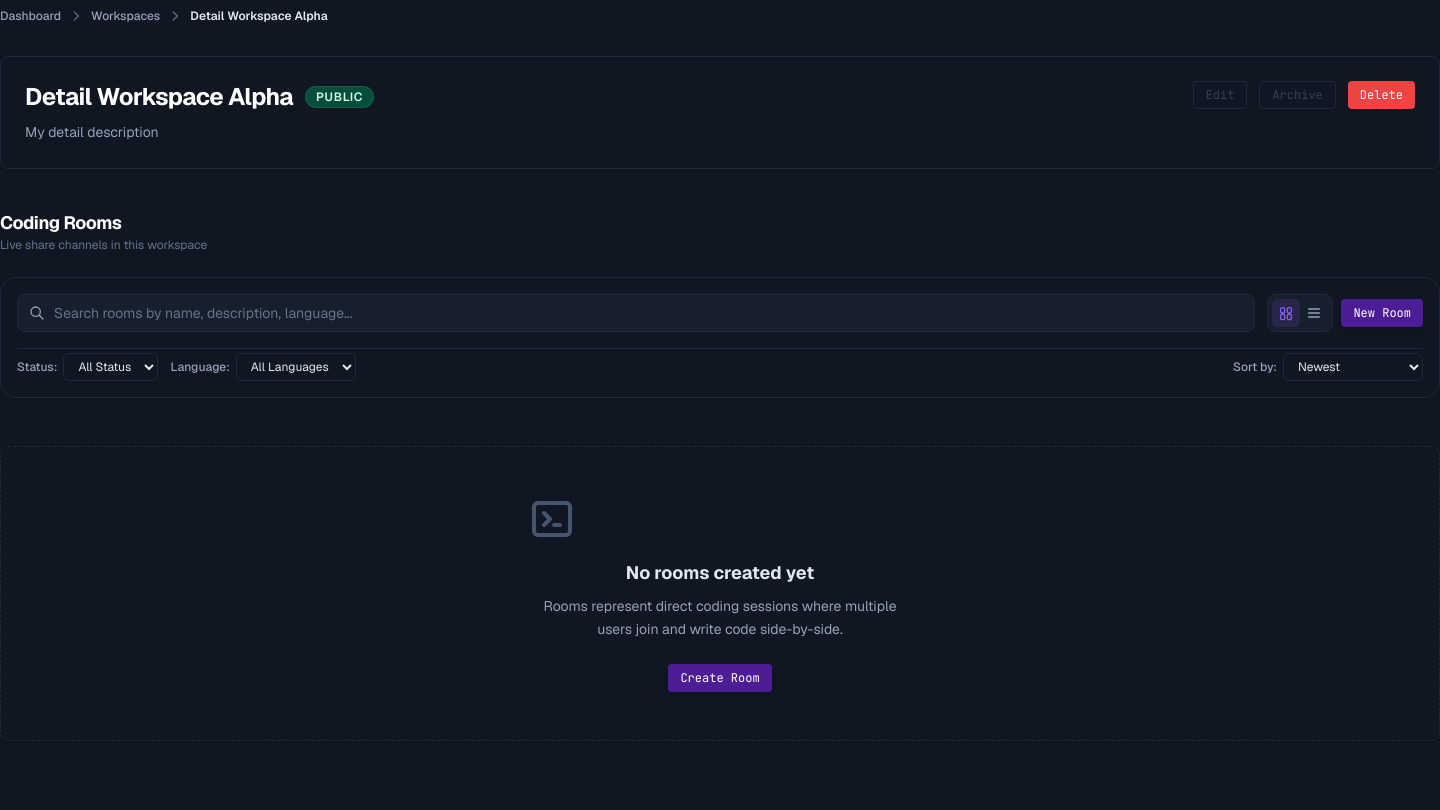
it: Workspace Management UI flow tests › should enforce owner permission checks and edit/delete inputs validation
Expected: the button "Edit" is shown, [1193,81,1247,109]
Expected: the button "Archive" is shown, [1259,81,1336,109]
# Show delete safety input confirmation
Step 1. Click the button "Delete" → (1381, 95), box [1348,81,1415,109]
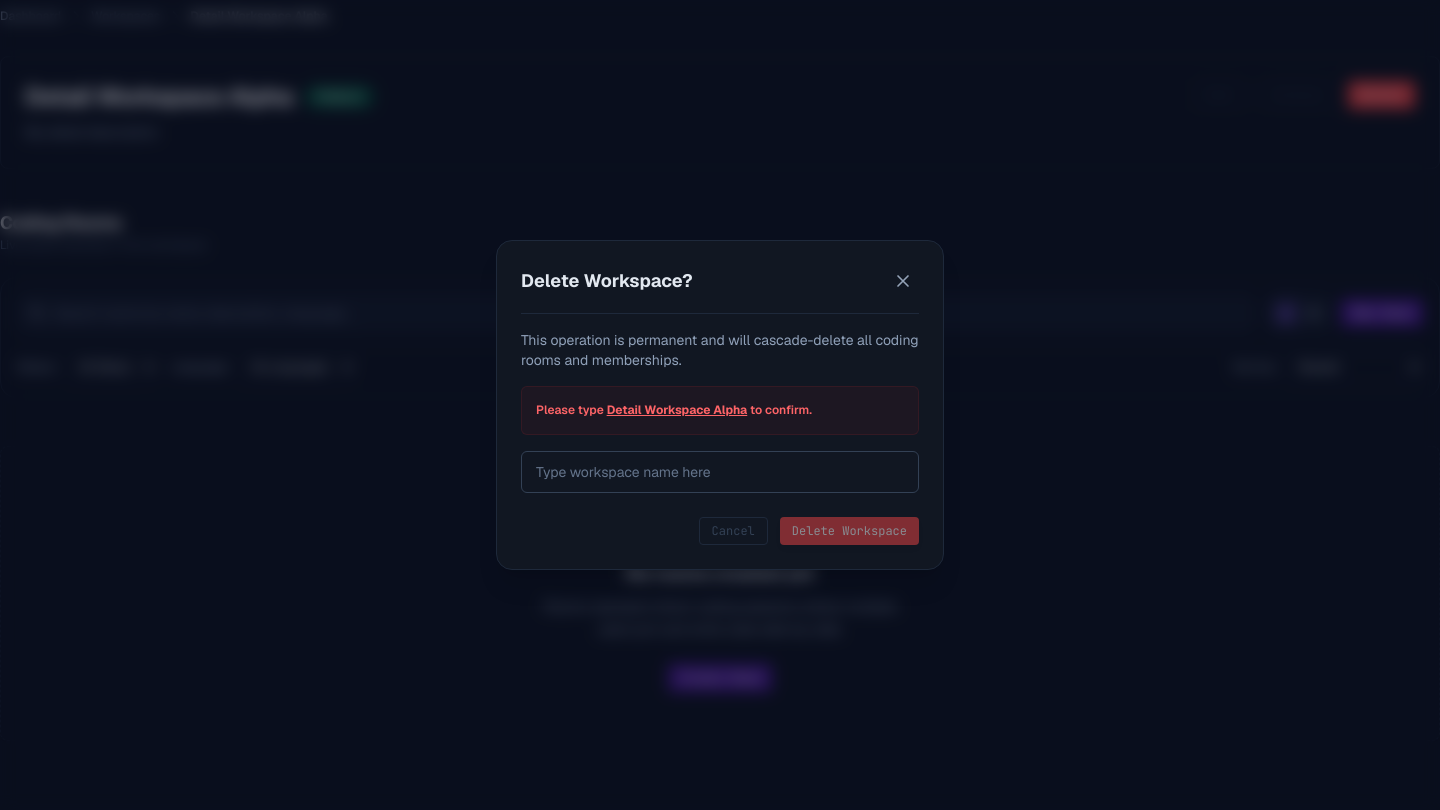
Expected: the heading "Delete Workspace?" is shown, [521,267,693,295]
Expected: the button "Delete Workspace" is disabled, [780,517,919,545]
# Fill wrong name
Step 2. Type "Wrong Workspace Name" into the field with placeholder "Type workspace name here" → (720, 472), box [521,451,919,493]
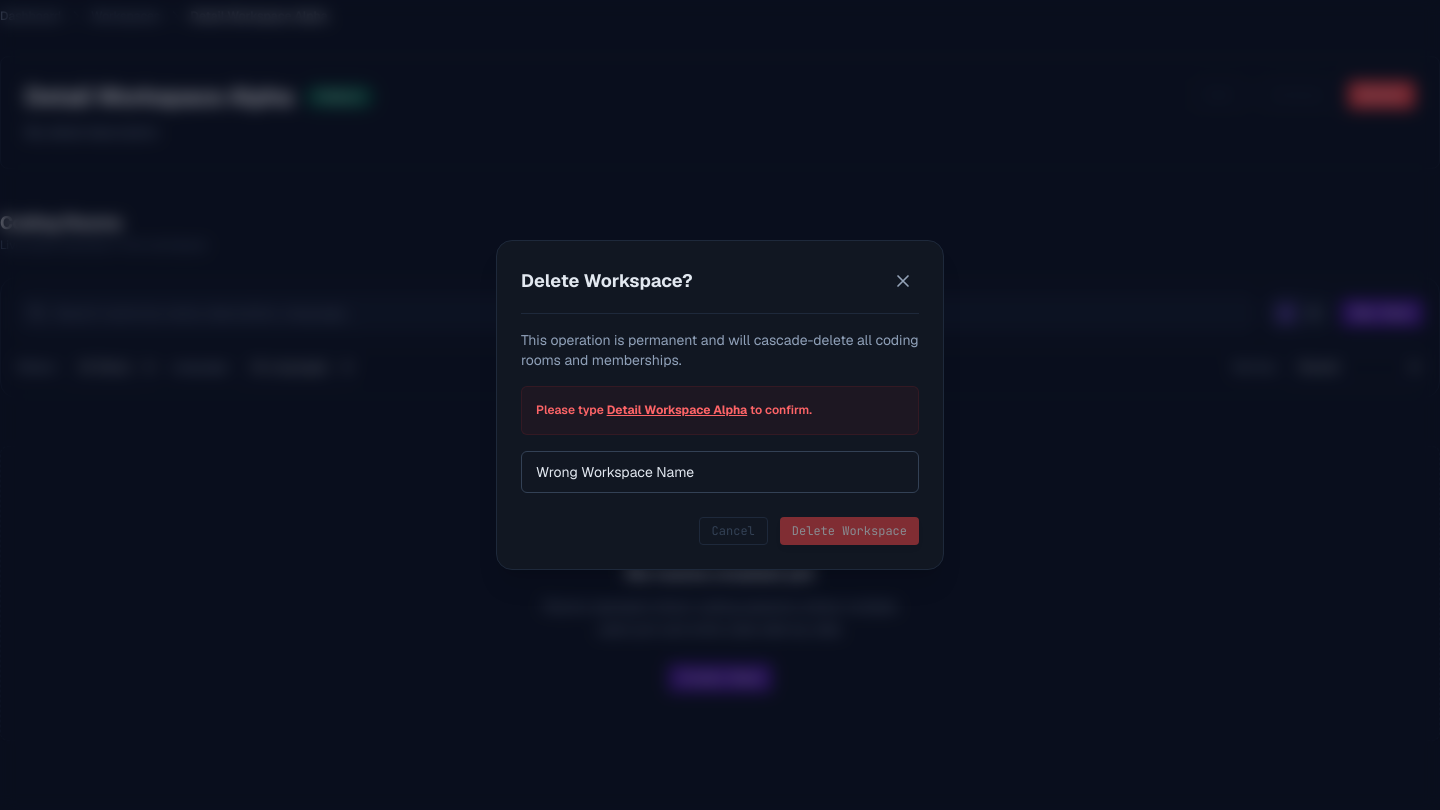
Expected: the button "Delete Workspace" is disabled, [780,517,919,545]
# Fill correct name to enable delete
Step 3. Replace the text in the field with placeholder "Type workspace name here" with "Detail Workspace Alpha" → (720, 472), box [521,451,919,493]
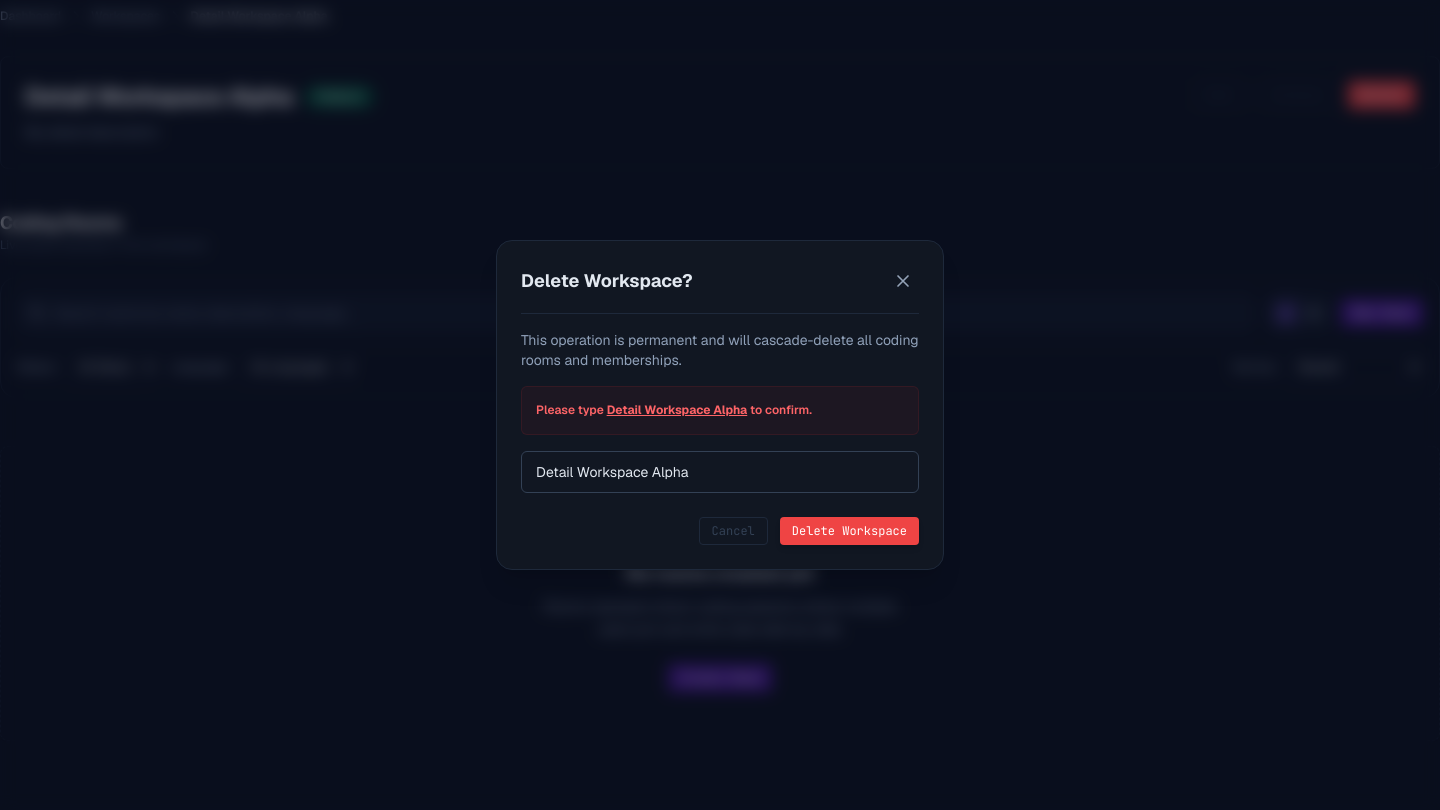
Expected: the button "Delete Workspace" is enabled, [780,517,919,545]
